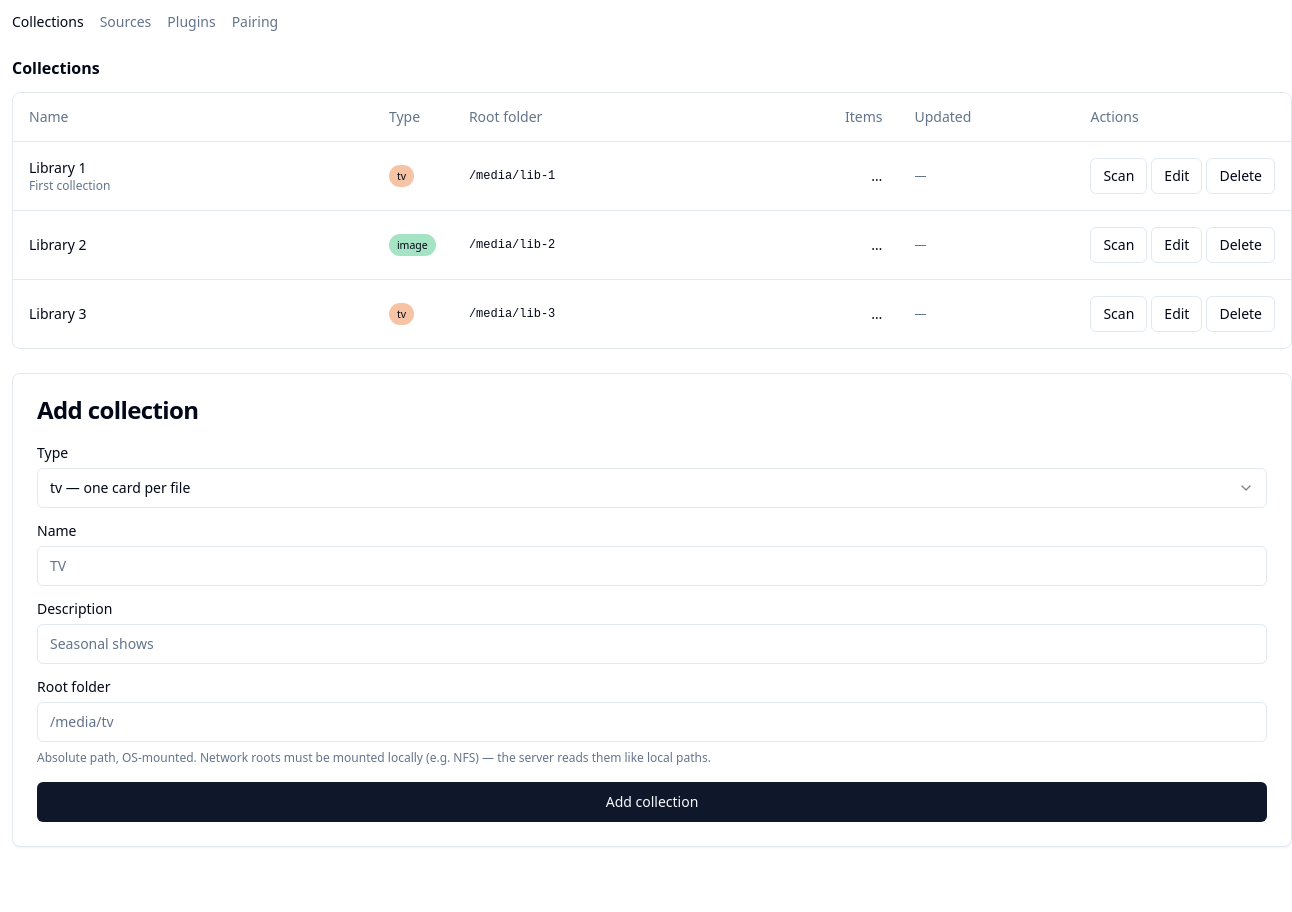
it: Collections — admin panel (group 6) › renders the inline scan result on the scanned row ONLY
Expected: the text "/media/lib-2" is shown, top-left (453, 210), bottom-right (829, 279)
Click the button "Scan" in the row of "Library 2" at (1119, 244), box top-left (1090, 226), bottom-right (1147, 262)
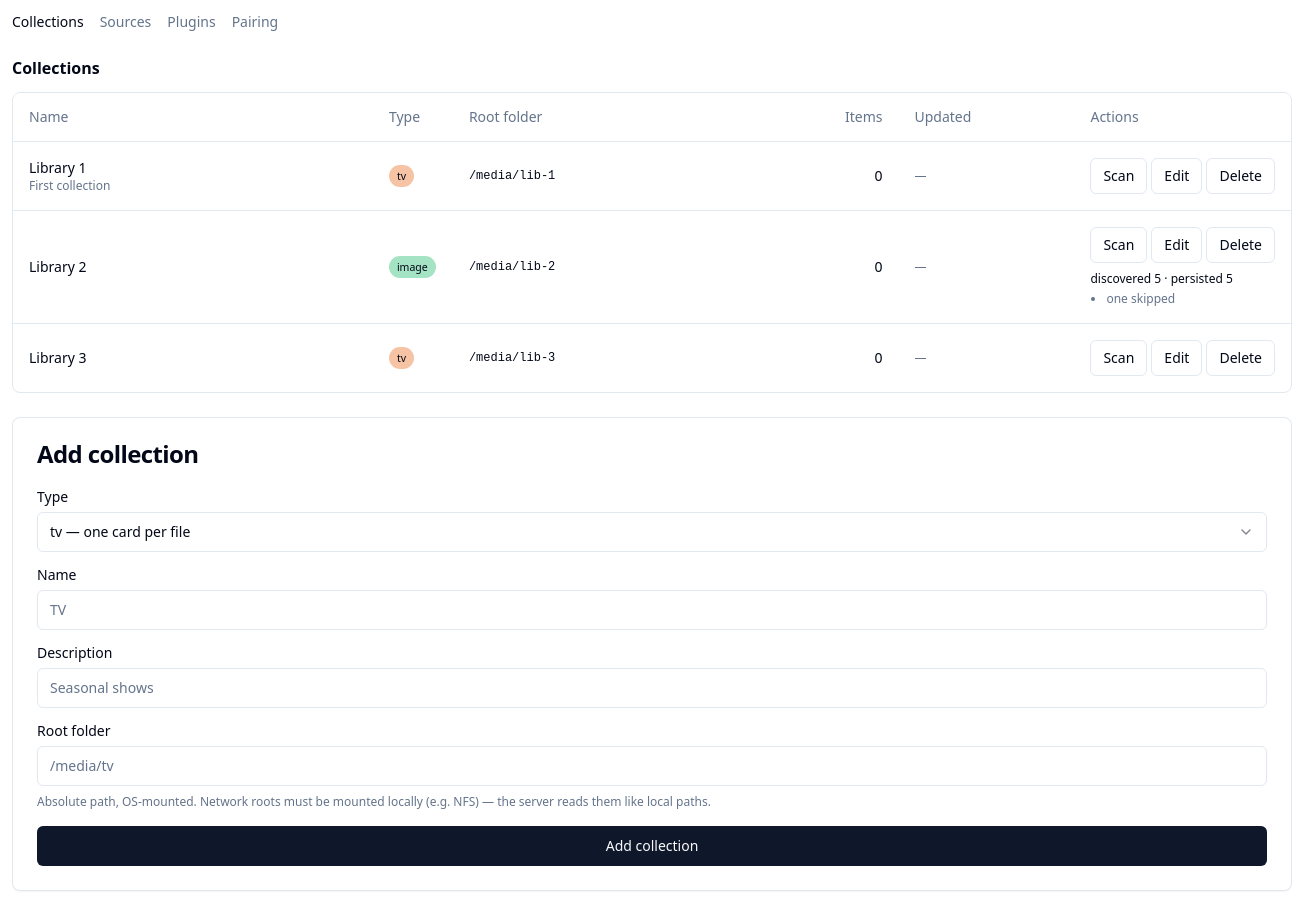
Result: the text "discovered 5 · persisted 5" is shown at top-left (1090, 270), bottom-right (1233, 286)
Result: the list item "one skipped" is shown at top-left (1106, 290), bottom-right (1175, 306)
